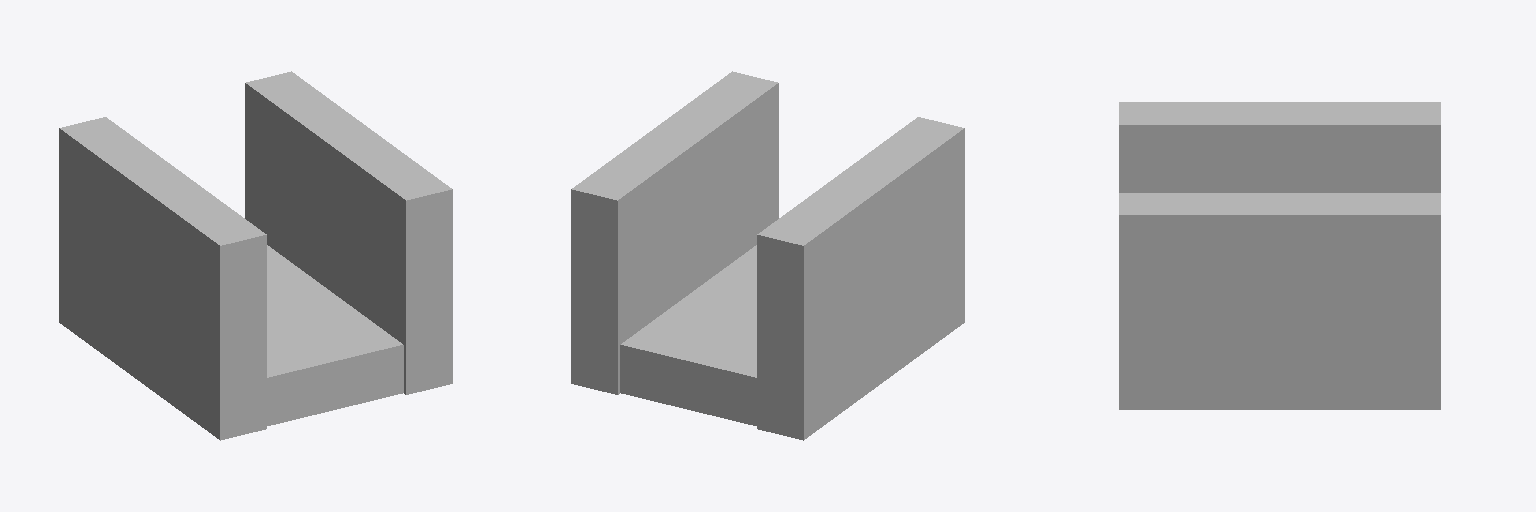
File: BallistaClasp.obj
The picture shows the model from 3 angles: view 1: azimuth 30°, elevation 25°; view 2: azimuth 150°, elevation 25°; view 3: azimuth 270°, elevation 25°; orthographic projection.
Visible parts, largest first — view 1: cuboid; view 2: cuboid; view 3: cuboid.
Part boxes in pixels (left/top/right/bottom): cuboid: left=59, top=71, right=452, bottom=440; cuboid: left=571, top=71, right=964, bottom=440; cuboid: left=1119, top=102, right=1440, bottom=409.
Bounding box in the file's own units: 0.1562 × 0.125 × 0.1875.